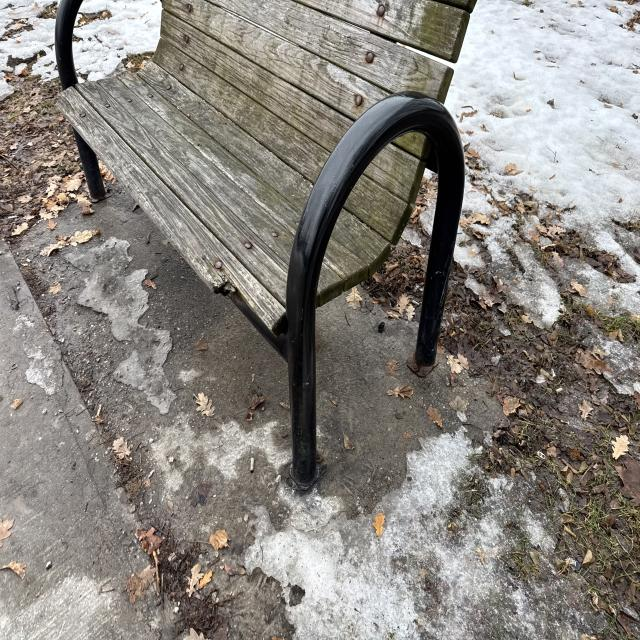Bench: (124, 4, 470, 460)
